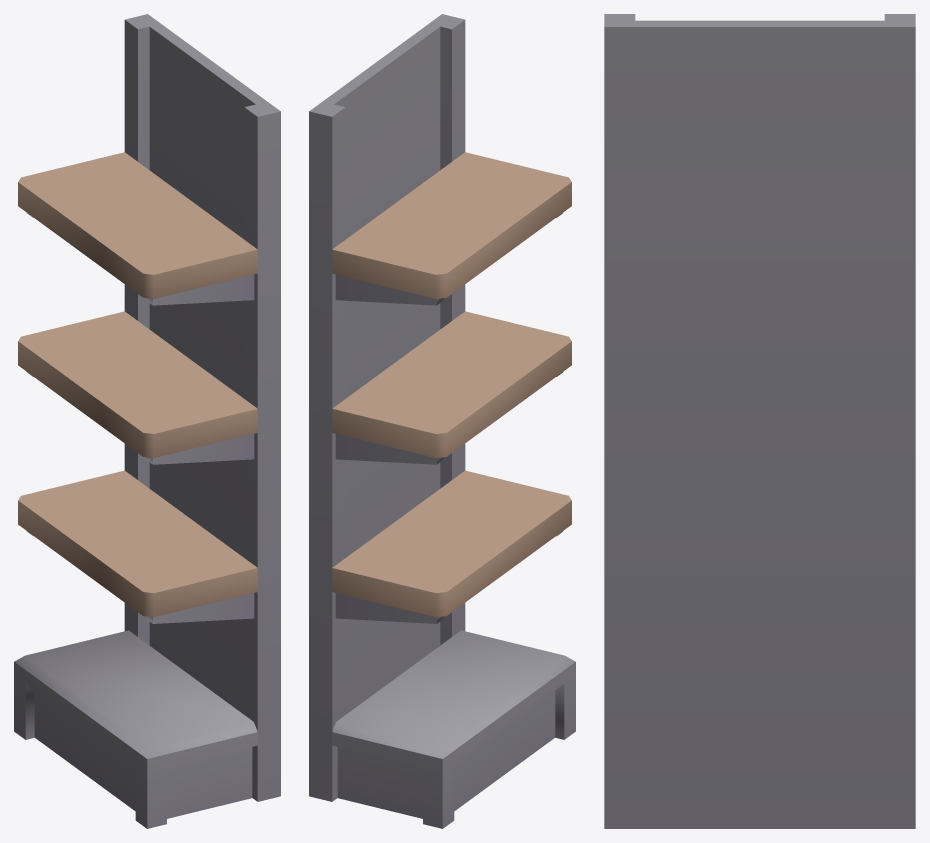
Rendered from retail-shelf-narrow.glb.
3 renders of one model, left to right at view 1: azimuth 30°, elevation 25°; view 2: azimuth 150°, elevation 25°; view 3: azimuth 270°, elevation 25°, orthographic. The views are drawn at different scales.
Parts seen in each view (by area): view 1: retail-shelf-narrow; view 2: retail-shelf-narrow; view 3: retail-shelf-narrow.
Part boxes in pixels (x1,y1,x2,y2): retail-shelf-narrow: [14, 14, 280, 828]; retail-shelf-narrow: [309, 14, 575, 828]; retail-shelf-narrow: [604, 14, 915, 828].
Bounding box in the file's own units: 0.29 × 1.42 × 0.5.
